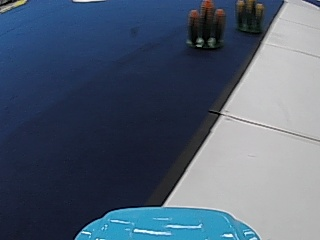corn: (186, 1, 225, 50), (236, 0, 265, 33)
